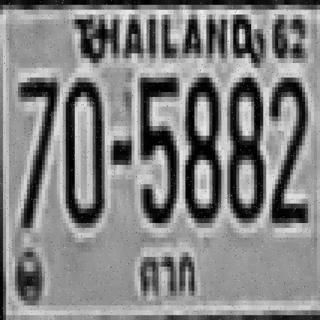N00: (63, 73, 102, 223)
N02: (269, 73, 305, 218)
N05: (138, 73, 176, 223)
N07: (16, 75, 56, 225), (18, 75, 57, 182)
N08: (182, 73, 218, 218), (226, 73, 262, 218)
P69: (135, 246, 203, 305)
